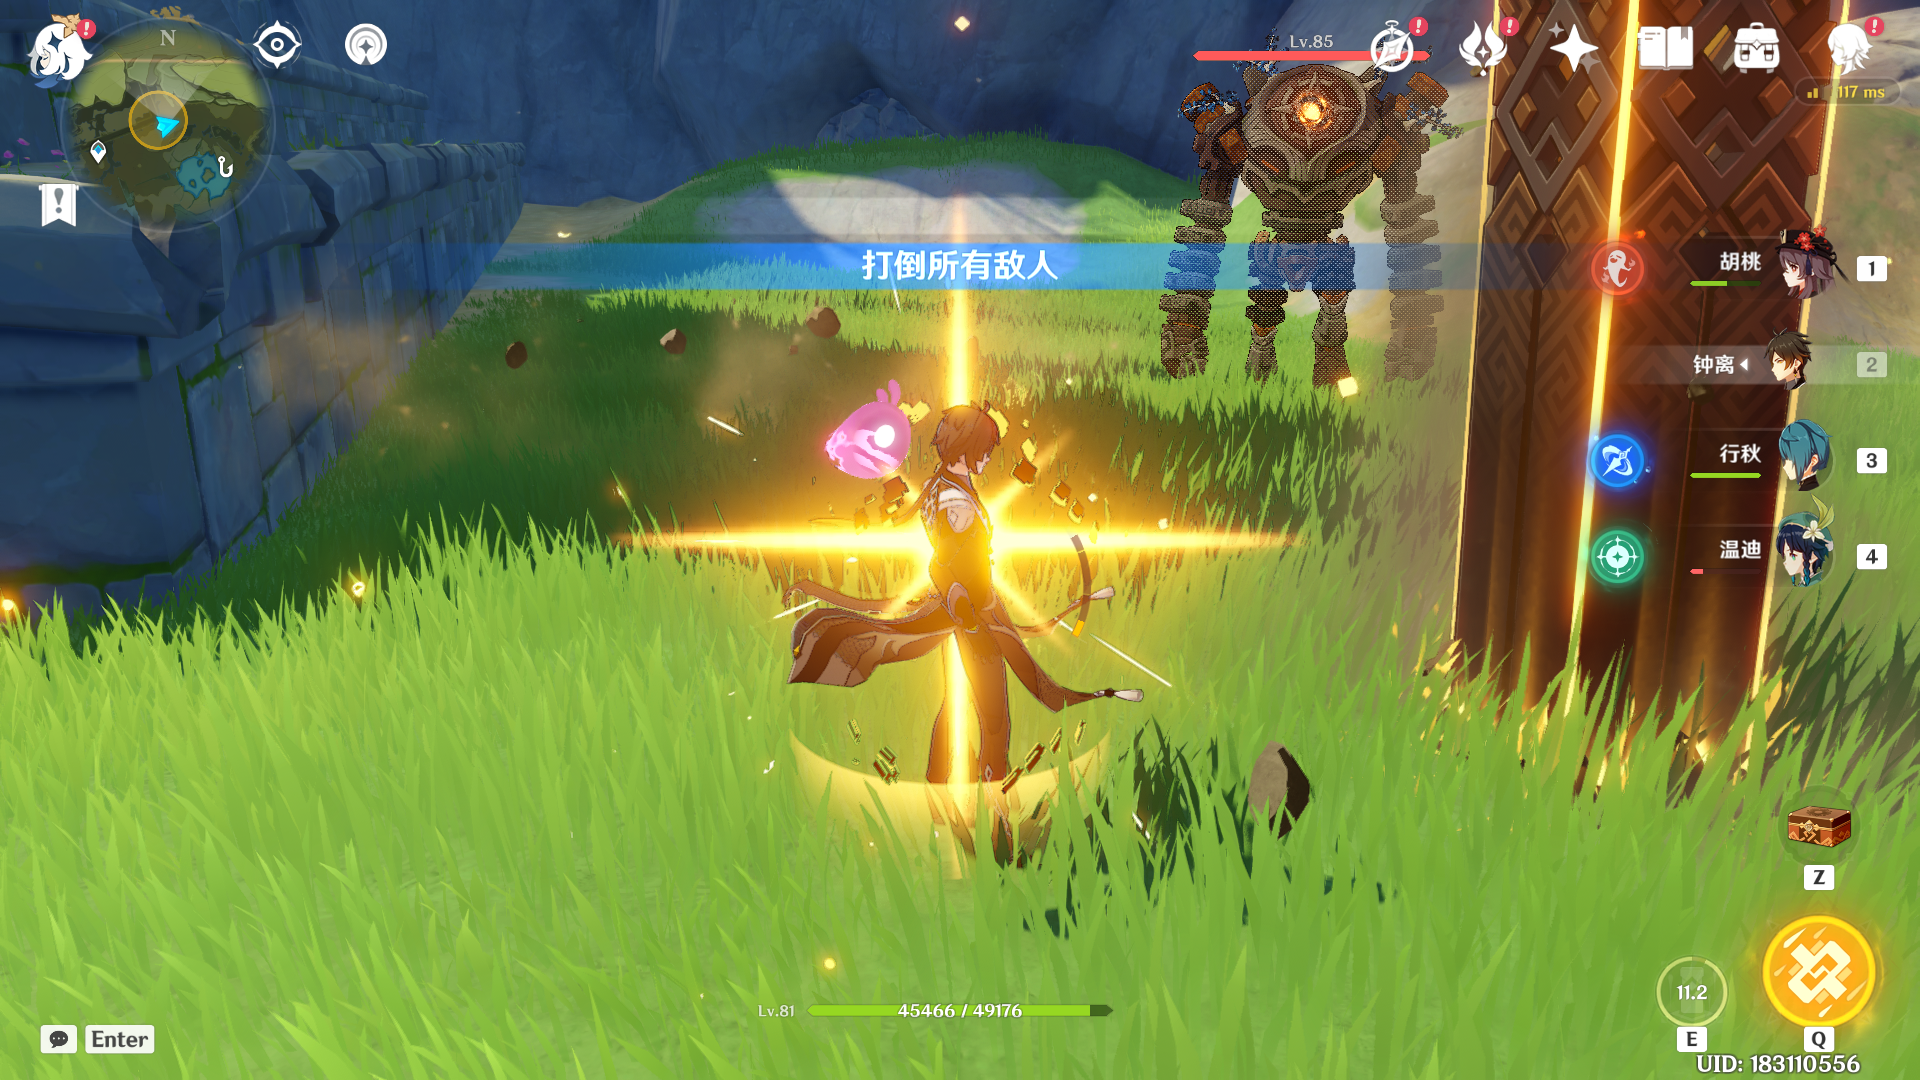character: (766, 349, 1153, 894)
